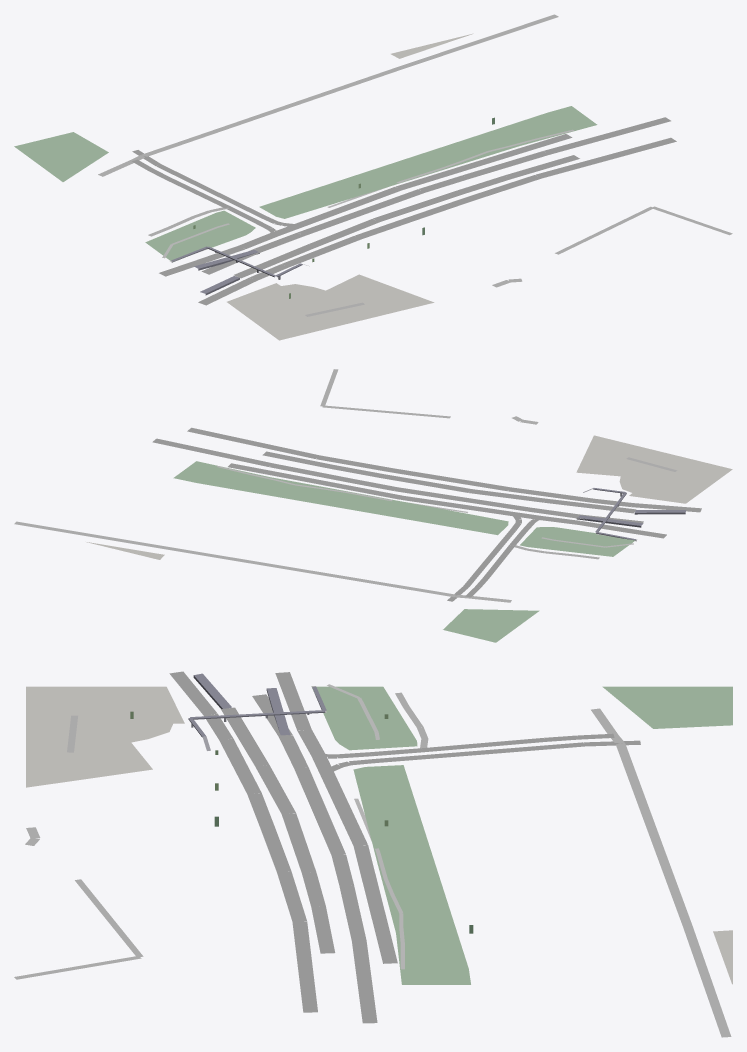
3 views of the same model, one above another, from view 1: azimuth 30°, elevation 25°; view 2: azimuth 150°, elevation 25°; view 3: azimuth 270°, elevation 25° (orthographic). The views are drawn at different scales.
Bounding box in the file's own units: 613 × 9.93 × 508.
